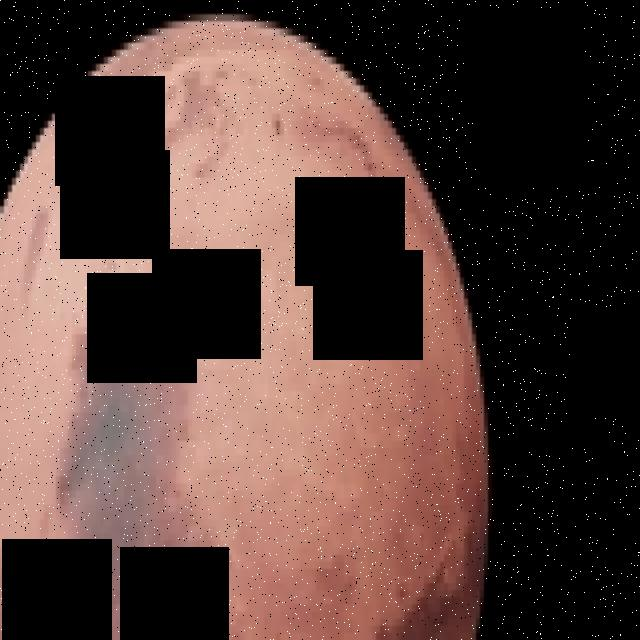Mars: (0, 7, 492, 640)
